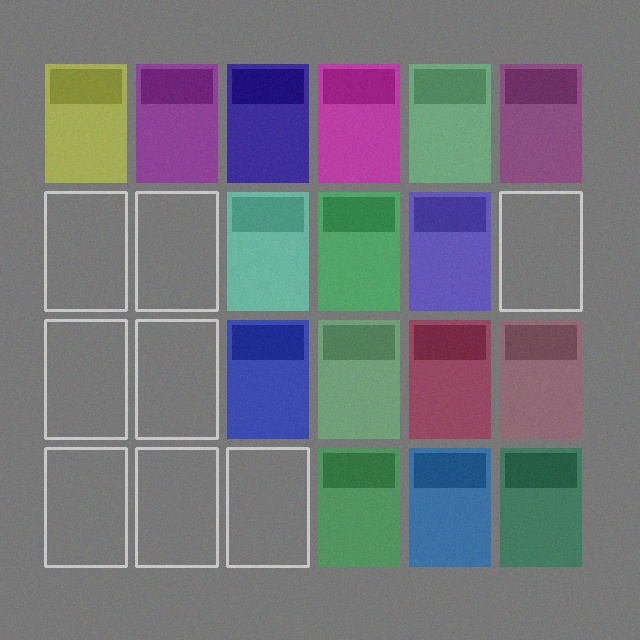space-empty: (45, 192, 126, 310), (136, 192, 217, 310), (500, 192, 581, 310), (45, 320, 126, 438), (136, 320, 217, 438), (45, 448, 126, 566), (136, 448, 217, 566), (227, 448, 308, 566)
space-occupied: (45, 64, 126, 182), (136, 64, 217, 182), (227, 64, 308, 182), (318, 64, 399, 182), (409, 64, 490, 182), (500, 64, 581, 182), (227, 192, 308, 310), (318, 192, 399, 310), (409, 192, 490, 310), (227, 320, 308, 438), (318, 320, 399, 438), (409, 320, 490, 438), (500, 320, 581, 438), (318, 448, 399, 566), (409, 448, 490, 566), (500, 448, 581, 566)
